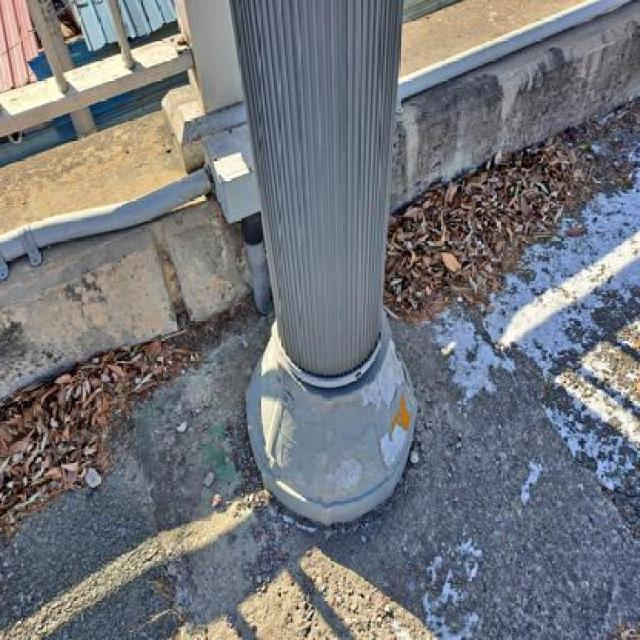pole: (210, 0, 442, 537)
